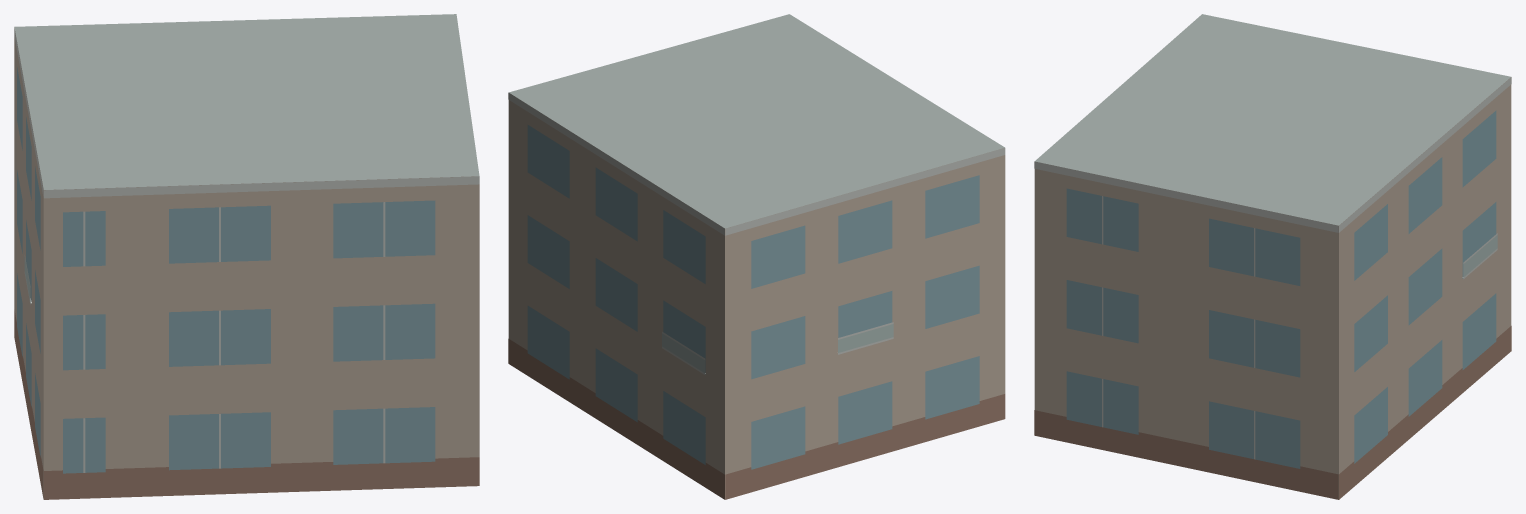
The model's file is survey-upis-32913200.glb.
3 views of the same model, side by side, from view 1: azimuth 30°, elevation 25°; view 2: azimuth 150°, elevation 25°; view 3: azimuth 270°, elevation 25° (orthographic). The views are drawn at different scales.
Visible parts, largest first — view 1: survey-upis-32913200.tmp; view 2: survey-upis-32913200.tmp; view 3: survey-upis-32913200.tmp.
Boxes of the visible parts, x1,y1,x2,y2 form: survey-upis-32913200.tmp: (14, 14, 479, 499); survey-upis-32913200.tmp: (508, 14, 1005, 499); survey-upis-32913200.tmp: (1034, 14, 1511, 499).
Bounding box in the file's own units: 15.16 × 9.15 × 14.44.
